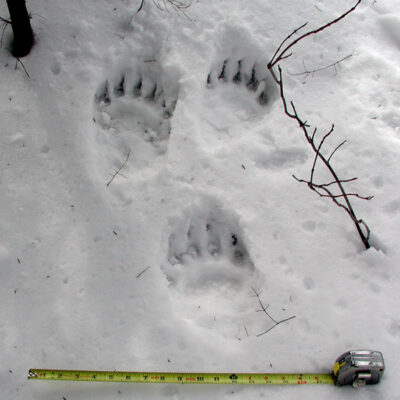bear: (148, 191, 277, 336), (83, 58, 180, 180), (202, 52, 283, 138)
